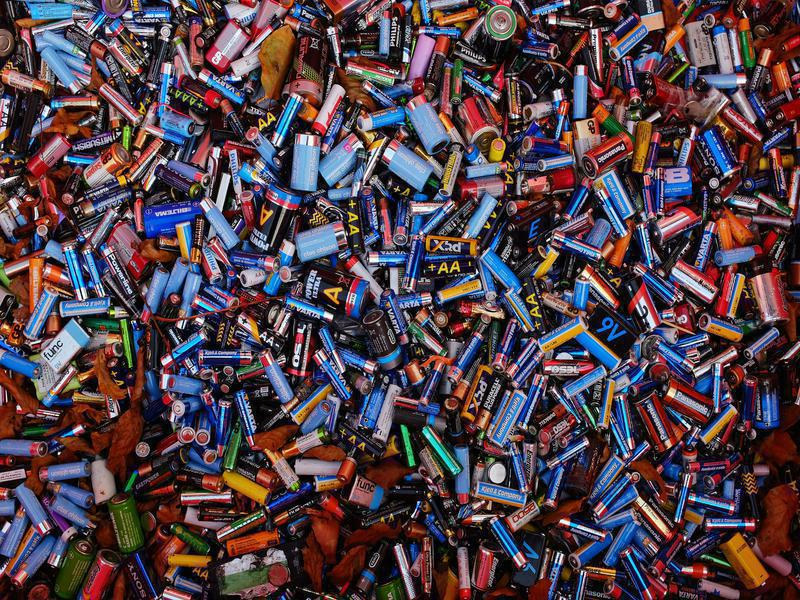battery: (303, 345, 360, 407), (380, 138, 438, 194), (692, 126, 745, 187), (403, 93, 453, 155), (41, 314, 91, 375), (143, 192, 206, 240), (101, 492, 148, 555), (192, 63, 254, 109), (285, 129, 328, 195), (417, 421, 464, 477), (294, 219, 349, 266), (668, 259, 723, 306), (253, 347, 298, 404), (748, 267, 791, 326), (547, 226, 607, 264), (281, 292, 339, 328), (469, 478, 530, 510), (569, 60, 593, 122)
